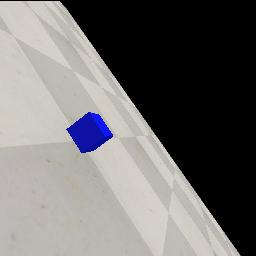box: (66, 112, 113, 153)
